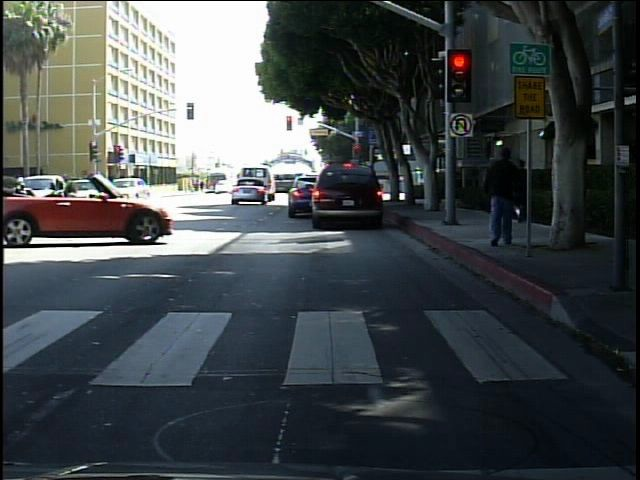person: (477, 132, 529, 252), (509, 148, 535, 231)
